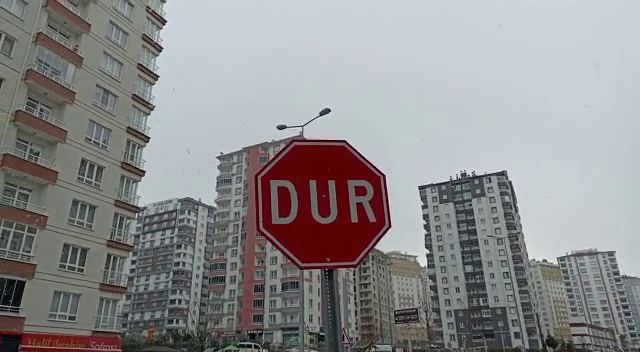stop: (251, 137, 395, 273)
